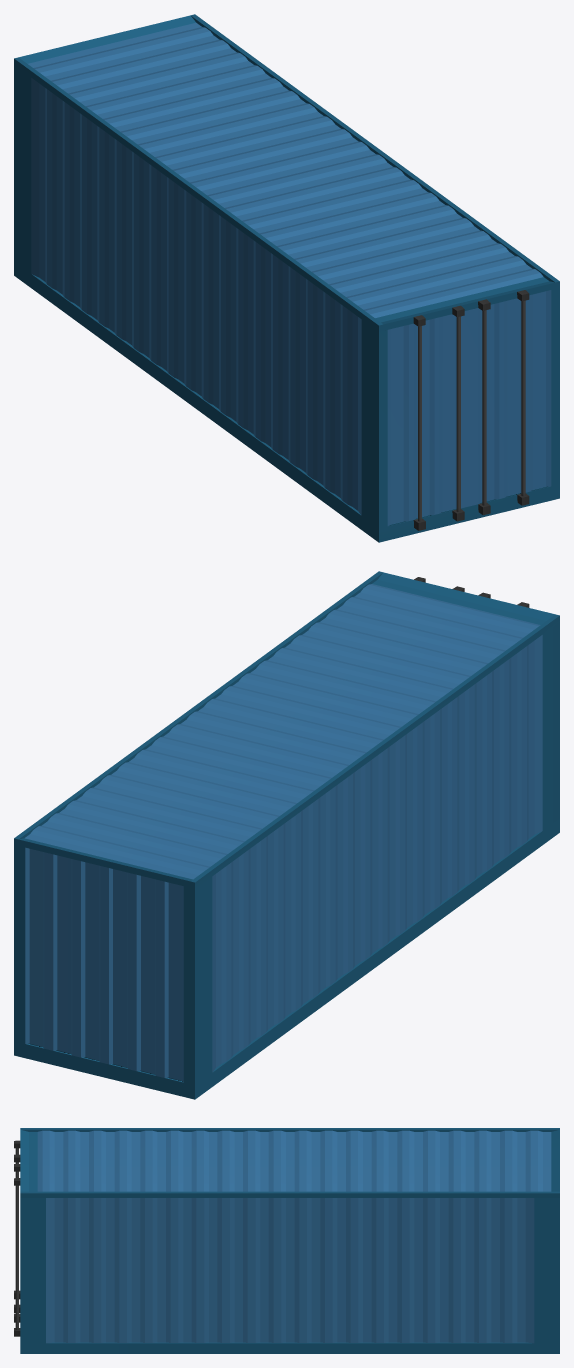
Rendered from Large Blue Shipping Container Closed.fbx.
3 views of the same model, one above another, from view 1: azimuth 30°, elevation 25°; view 2: azimuth 150°, elevation 25°; view 3: azimuth 270°, elevation 25° (orthographic). The views are drawn at different scales.
Parts seen in each view (by area): view 1: Large Blue Shipping Container Closed; view 2: Large Blue Shipping Container Closed; view 3: Large Blue Shipping Container Closed.
Part boxes in pixels (x1,y1,x2,y2): Large Blue Shipping Container Closed: [14, 14, 559, 542]; Large Blue Shipping Container Closed: [14, 571, 559, 1099]; Large Blue Shipping Container Closed: [14, 1128, 559, 1353].
Bounding box in the file's own units: 1052 × 3242 × 918.
Materials: 1 (1 with a texture image).
